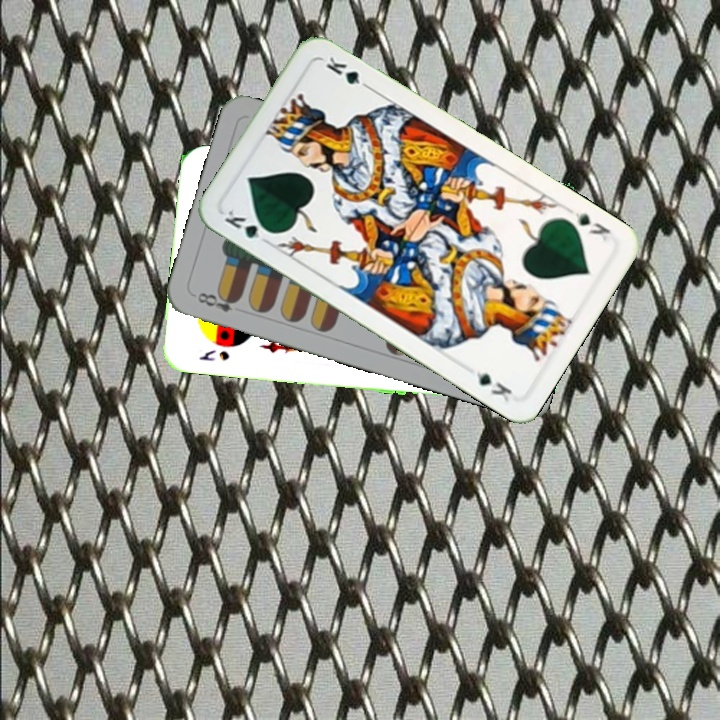E8: (193, 288, 242, 315)
GK: (220, 204, 276, 241), (568, 205, 613, 244)
SK: (195, 346, 232, 364)
